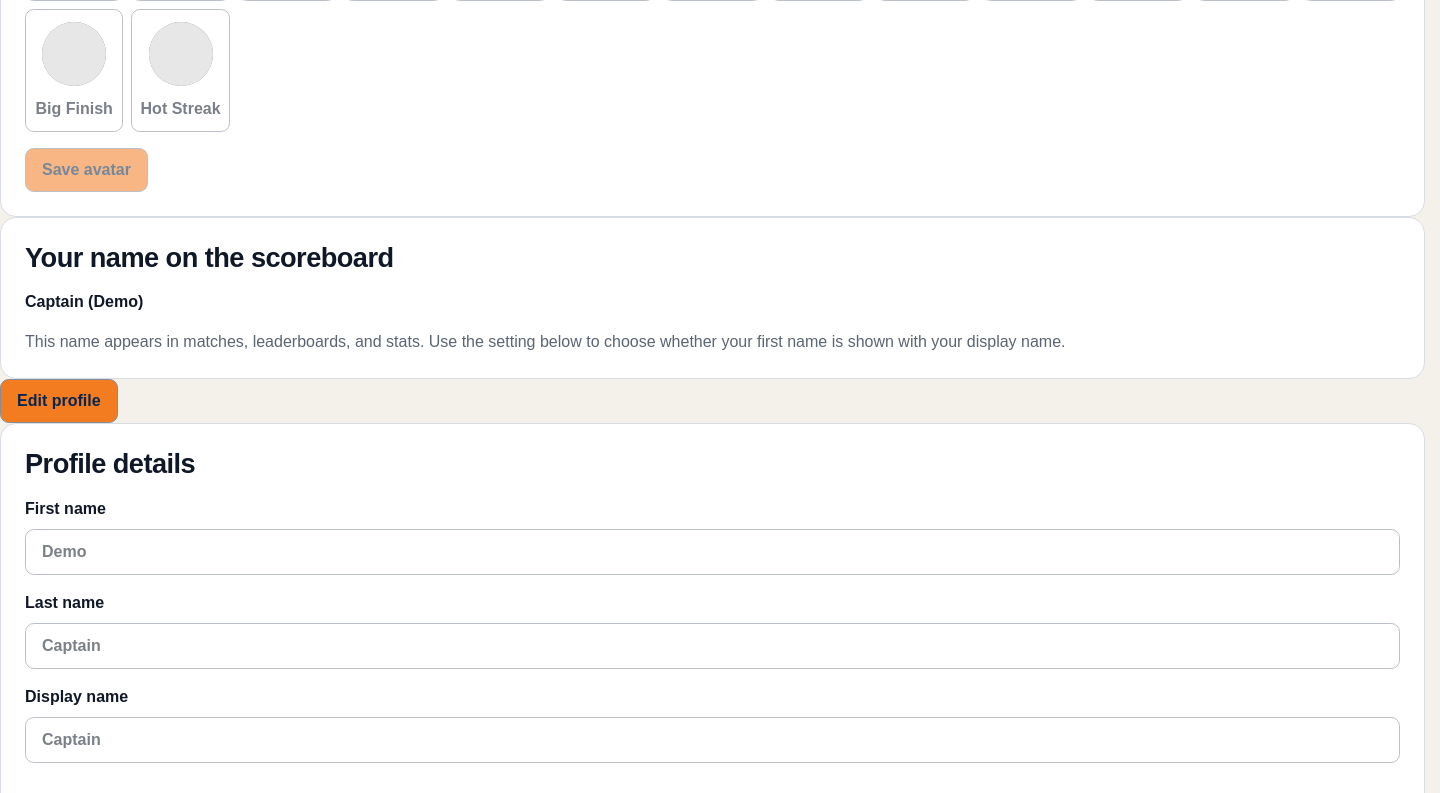
Test case: keeps a pending profile save stable and prevents a duplicate submission
The image size is (1440, 793).
(page scrolled)
Click the button "Edit profile". click: (59, 401)
box: [0,379,118,423]
(page scrolled)
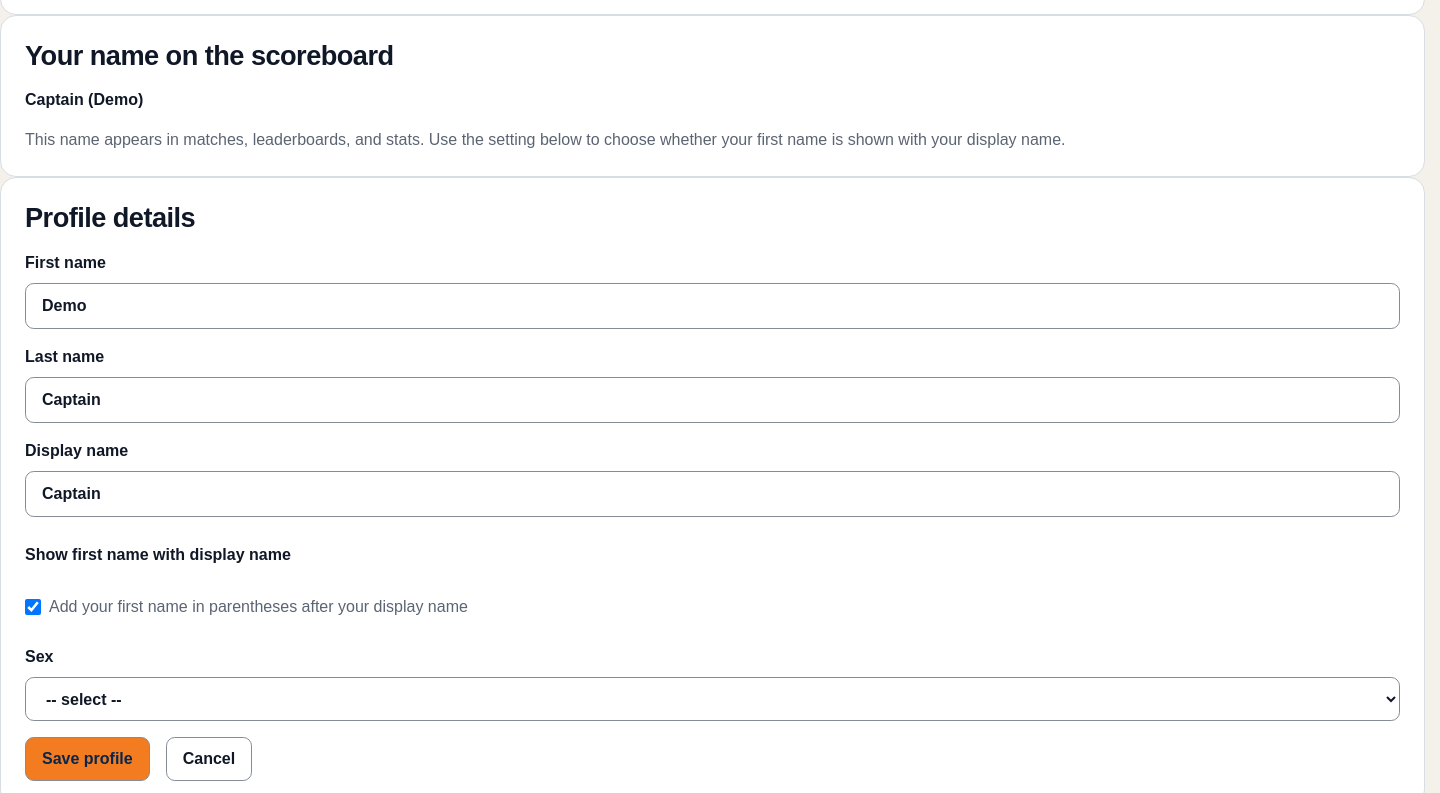
Replace the text in the field labelled "Display name" with "New captain". click: (712, 494)
box: [25,471,1400,517]
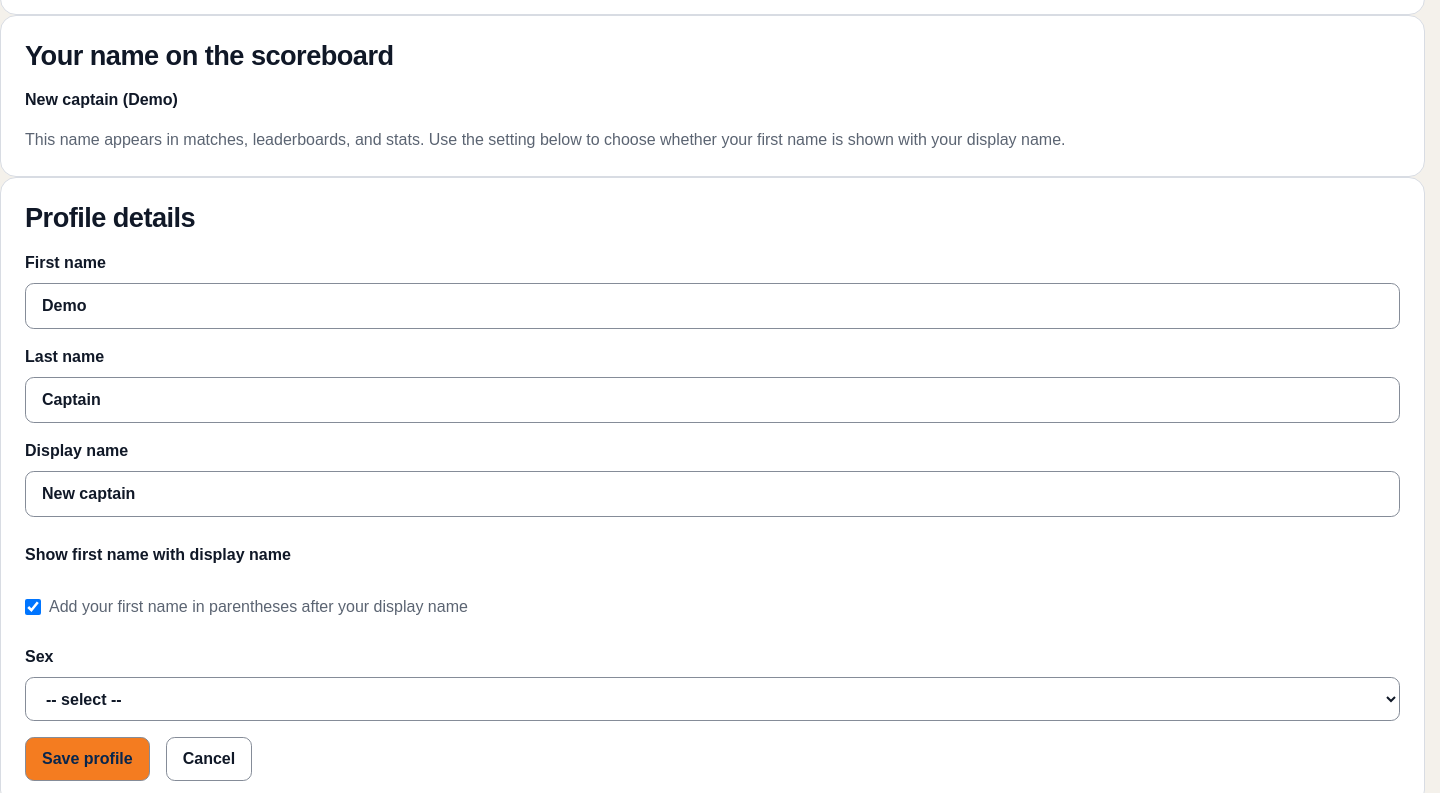
Click the button "Save profile". click: (87, 759)
box: [25,737,150,781]
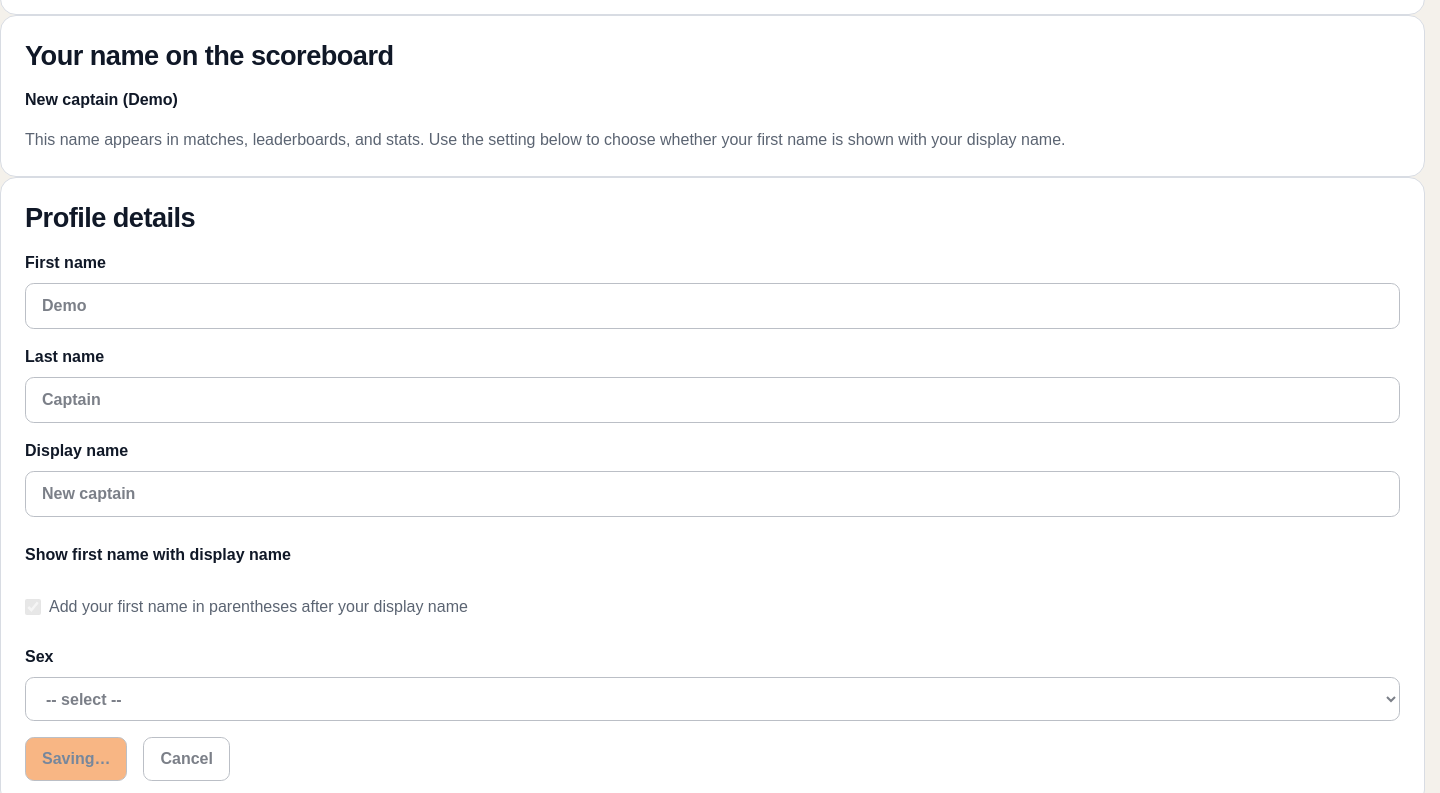
Now the button "Saving…" is disabled, box [25,737,128,781]
Now the button "Cancel" is disabled, box [144,737,230,781]
Now the field labelled "Display name" is disabled, box [25,471,1400,517]
Submit the form named "Saving…"
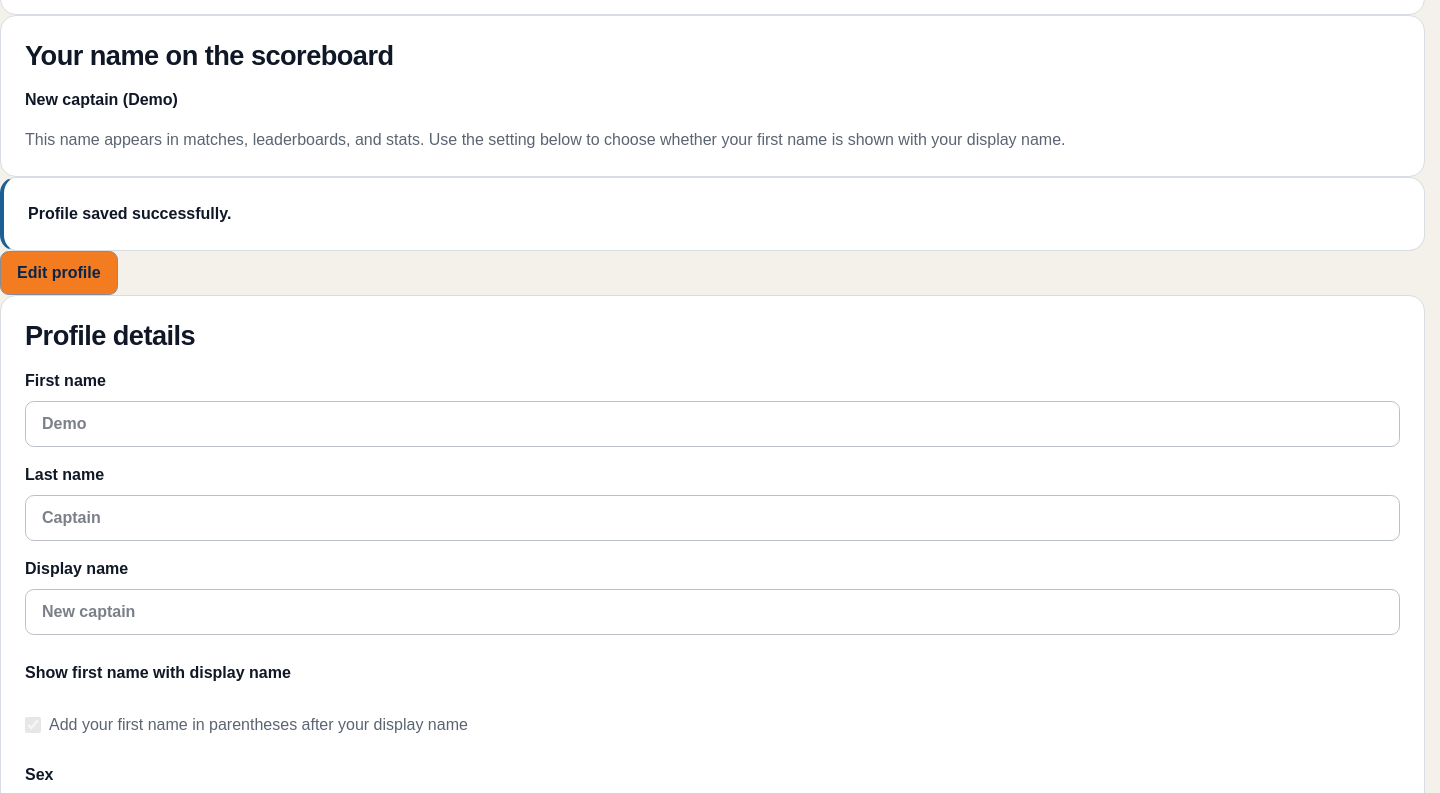
Now the text "Profile saved successfully." is shown, box [28,205,231,222]
Now the button "Edit profile" is shown, box [0,251,118,295]
